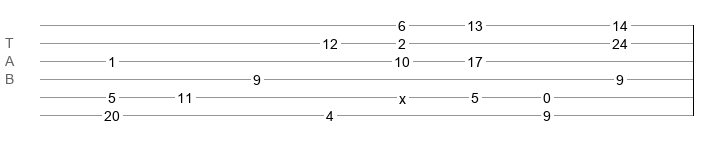0: (543, 90, 551, 100)
1: (108, 54, 116, 64)
10: (394, 54, 410, 64)
11: (177, 90, 193, 100)
12: (322, 36, 338, 46)
13: (467, 18, 483, 28)
14: (612, 18, 628, 28)
17: (467, 54, 483, 64)
2: (398, 36, 406, 46)
20: (104, 108, 120, 118)
24: (612, 36, 628, 46)
4: (326, 108, 334, 118)
5: (108, 90, 116, 100), (471, 90, 479, 100)
6: (398, 18, 406, 28)
9: (253, 72, 261, 82), (543, 108, 551, 118), (616, 72, 624, 82)
x: (399, 91, 406, 99)
